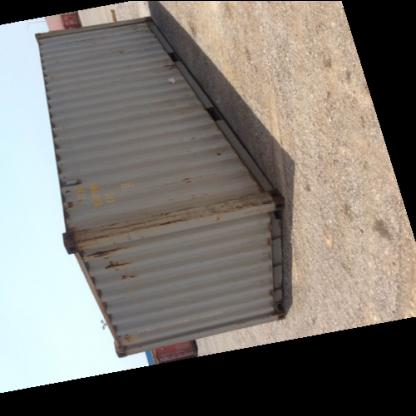Damage: (61, 211, 196, 247), (203, 188, 271, 224), (87, 247, 131, 285), (173, 169, 203, 190), (61, 175, 74, 208), (128, 22, 150, 38), (152, 60, 174, 76), (118, 329, 140, 344), (211, 147, 227, 161), (117, 47, 129, 55)
